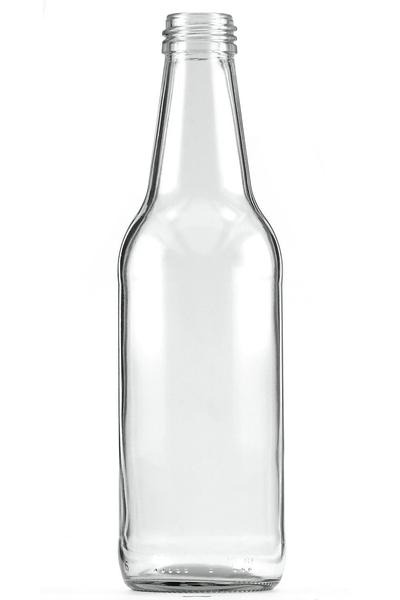container: (96, 7, 313, 595)
